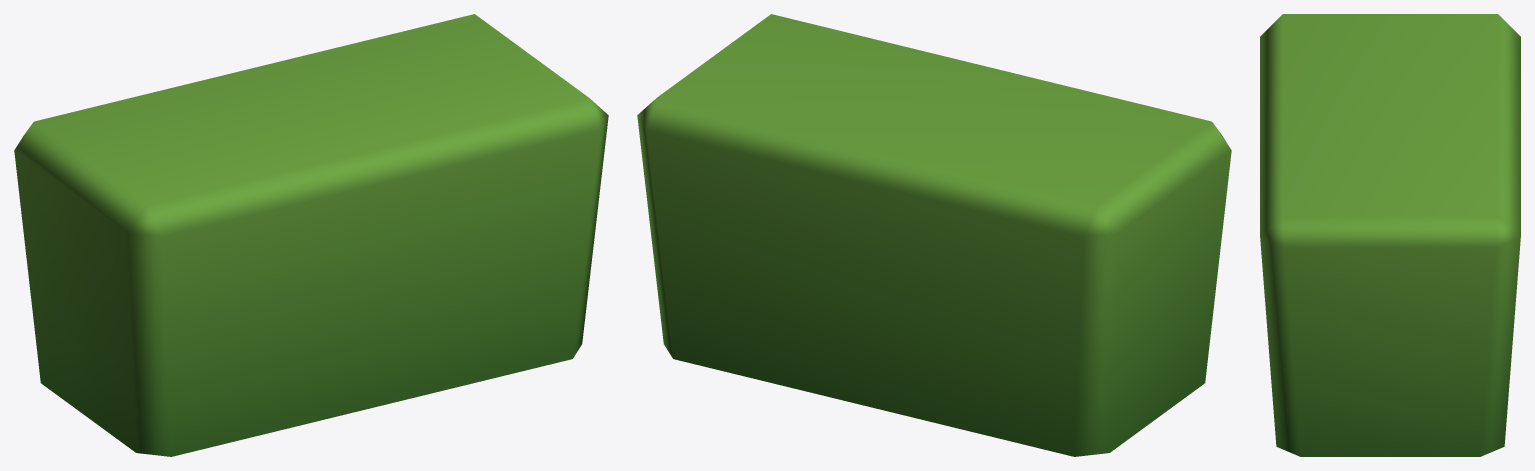
The model's file is Bush_10.glb.
The picture shows the model from 3 angles, left to right: view 1: azimuth 30°, elevation 25°; view 2: azimuth 150°, elevation 25°; view 3: azimuth 270°, elevation 25°; orthographic projection. The views are drawn at different scales.
Parts seen in each view (by area): view 1: Bush_10; view 2: Bush_10; view 3: Bush_10.
Part boxes in pixels (x1,y1,x2,y2): Bush_10: (14,14,608,456); Bush_10: (637,14,1231,456); Bush_10: (1260,14,1520,456).
Size of the model in its own units: 1.99 by 1 by 0.9876.
Materials: 1 (1 with a texture image).
